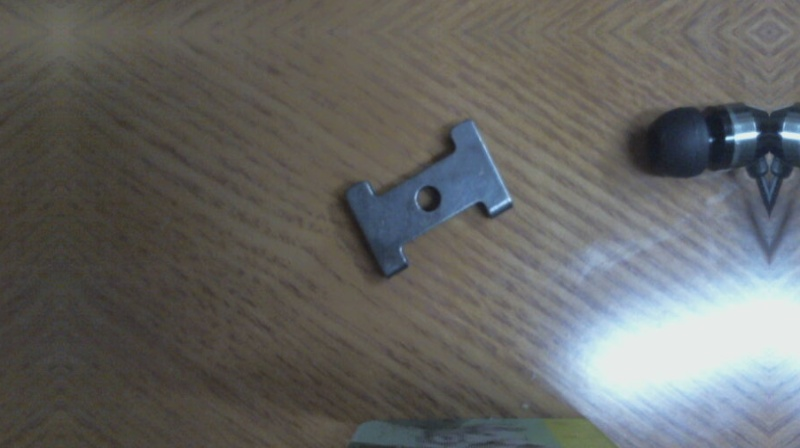O002: (343, 119, 513, 278)
